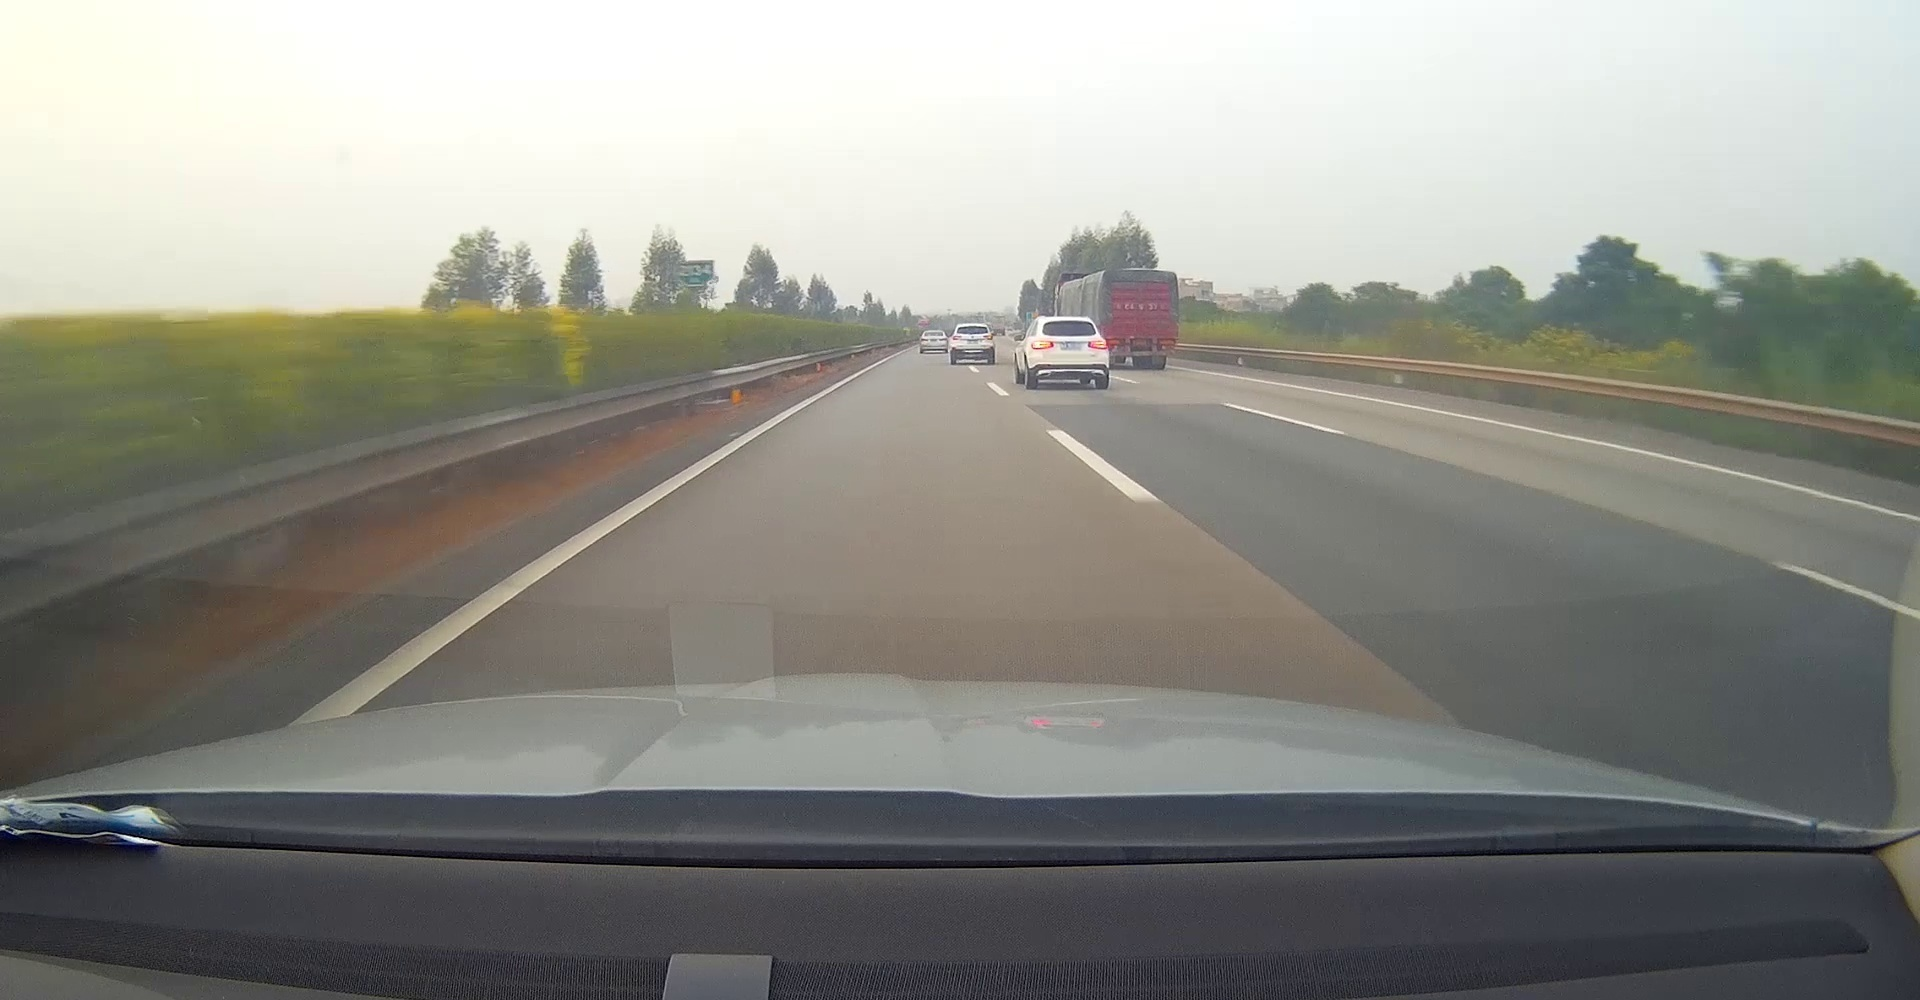L_light: (1031, 340, 1054, 350), (1107, 339, 1124, 346), (952, 335, 963, 340), (921, 339, 928, 341)
R_light: (1088, 340, 1107, 349), (1158, 338, 1175, 344), (983, 335, 993, 340), (940, 338, 946, 341)
T_light: (1062, 319, 1076, 322), (1137, 334, 1148, 338), (969, 325, 977, 327), (932, 331, 936, 332)
day-no: (1101, 269, 1178, 371), (1030, 315, 1109, 390), (951, 324, 994, 364), (919, 330, 949, 353)
